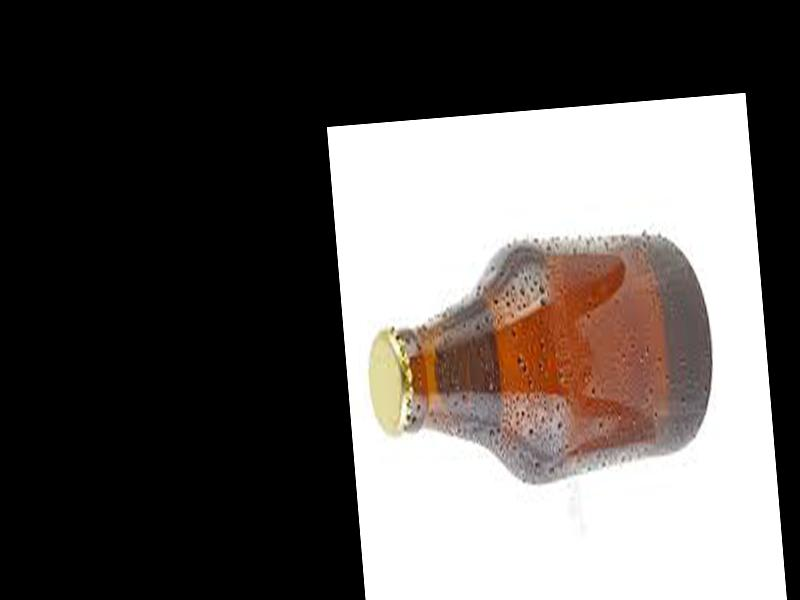Beer: (359, 231, 718, 479)
